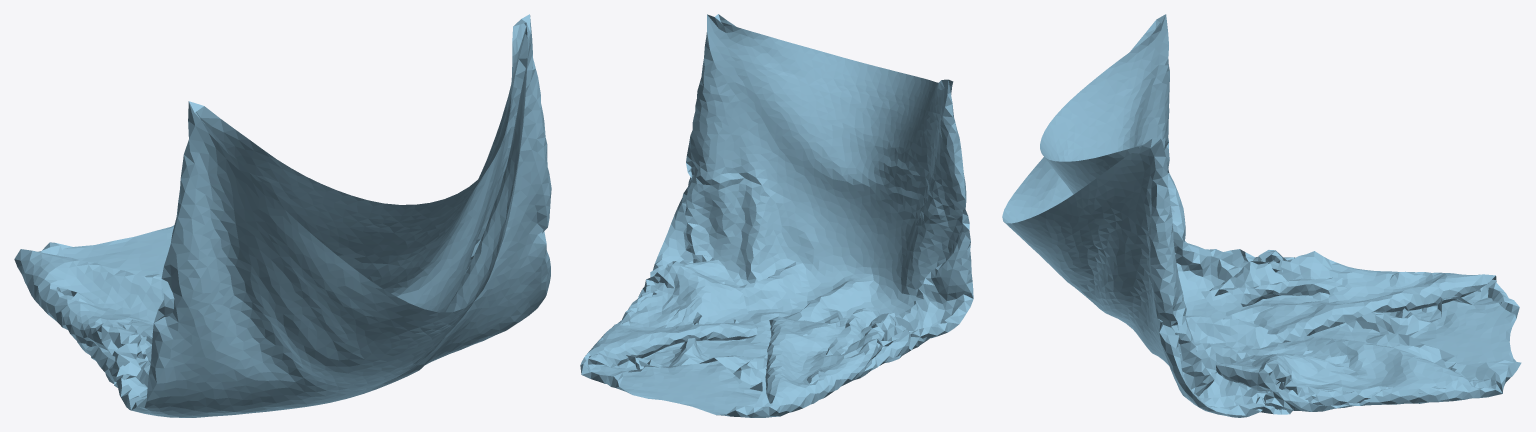
The model's file is frame_09.glb.
The picture shows the model from 3 angles, left to right: view 1: azimuth 30°, elevation 25°; view 2: azimuth 150°, elevation 25°; view 3: azimuth 270°, elevation 25°; orthographic projection. The views are drawn at different scales.
Visible parts, largest first — view 1: frame_09.obj; view 2: frame_09.obj; view 3: frame_09.obj.
Boxes of the visible parts, left/top/right/bottom form: frame_09.obj: left=14, top=14, right=551, bottom=417; frame_09.obj: left=580, top=14, right=973, bottom=417; frame_09.obj: left=1002, top=14, right=1521, bottom=417.
Size of the model in its own units: 1.1 by 0.8788 by 1.5.
